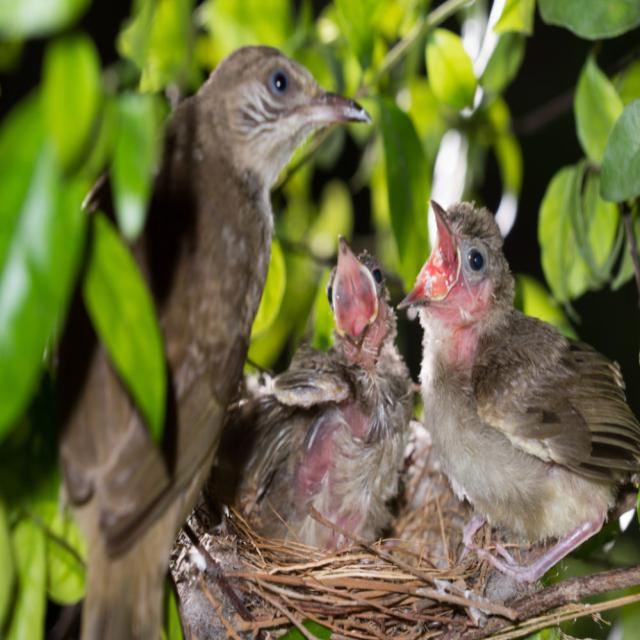bird: (67, 27, 367, 638), (403, 188, 640, 562), (328, 241, 402, 383)
